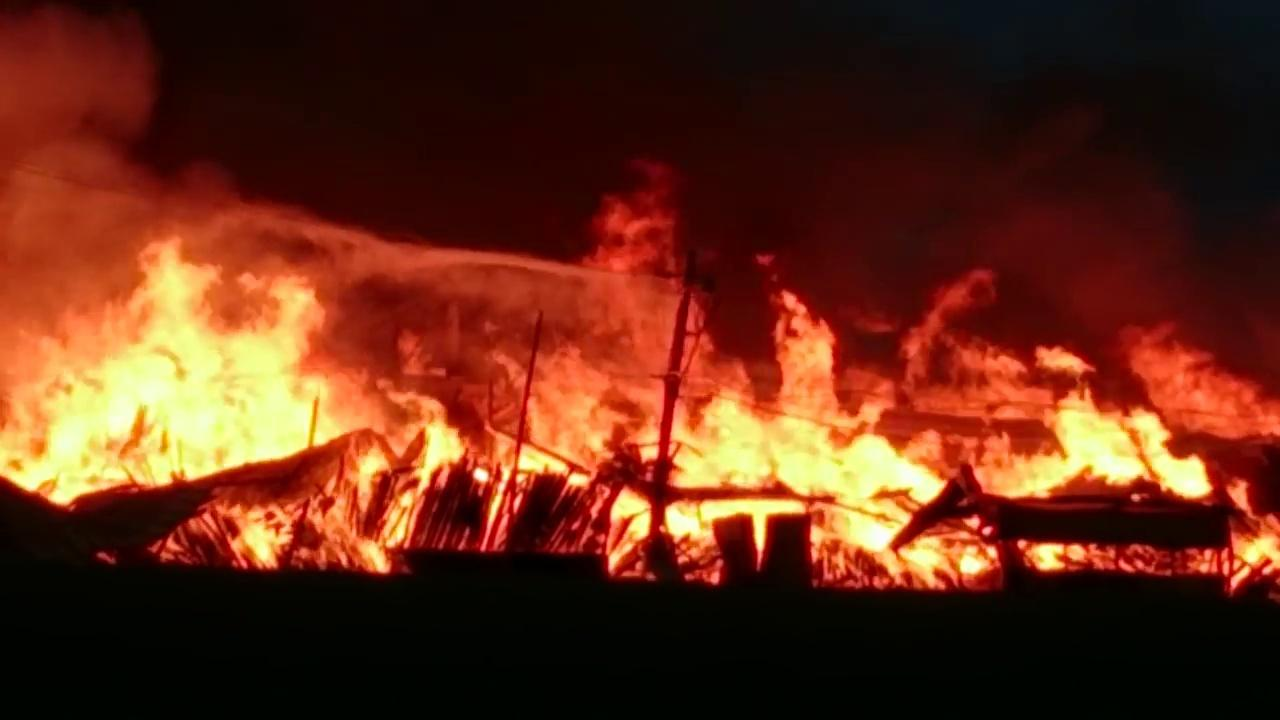fire: (3, 324, 1200, 581)
smoke: (20, 51, 131, 257)
